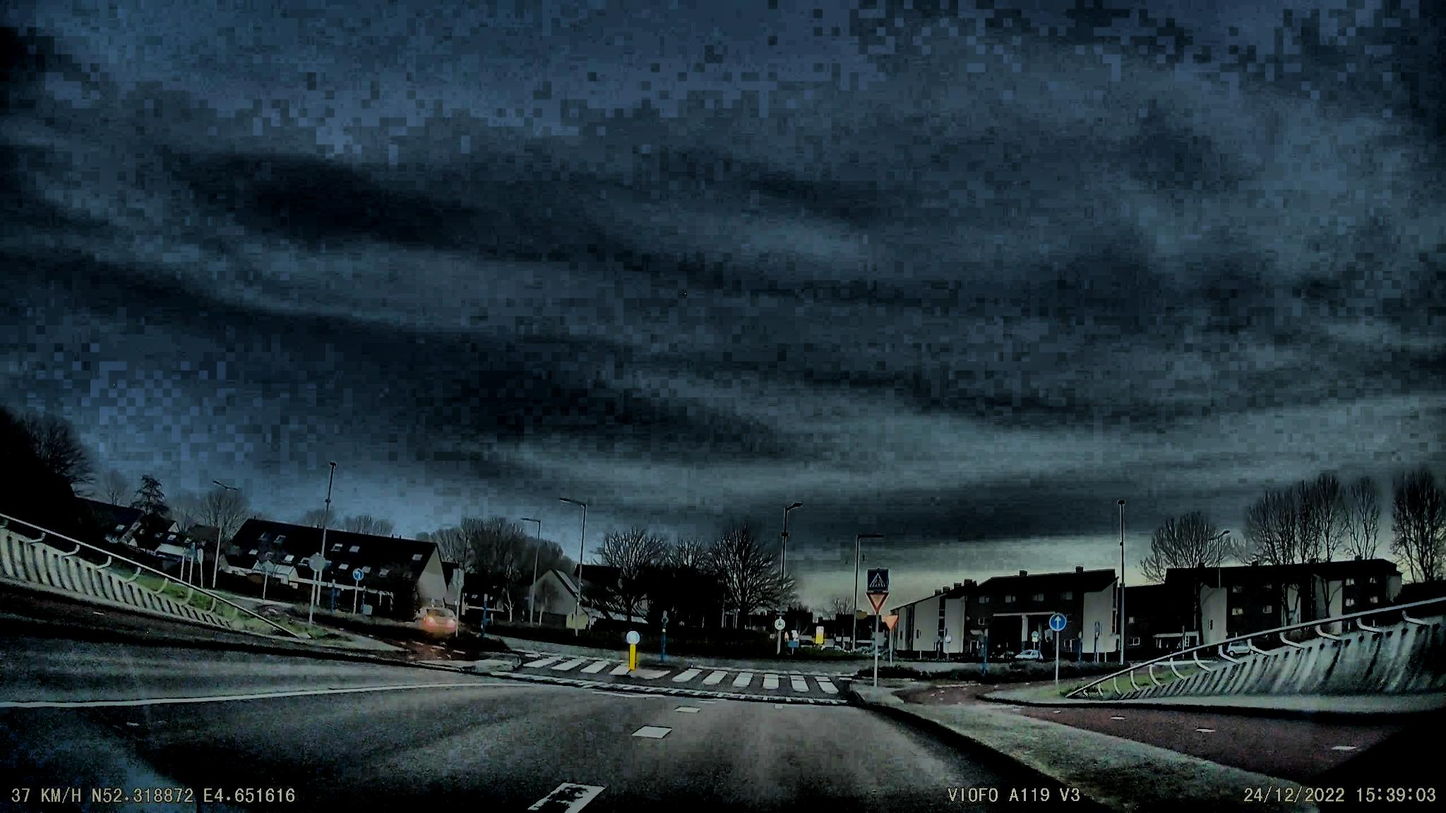Roads: (0, 634, 1080, 813)
